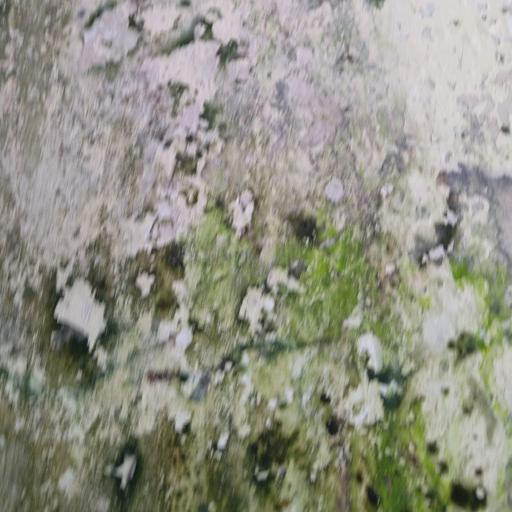algae: (13, 121, 512, 512)
